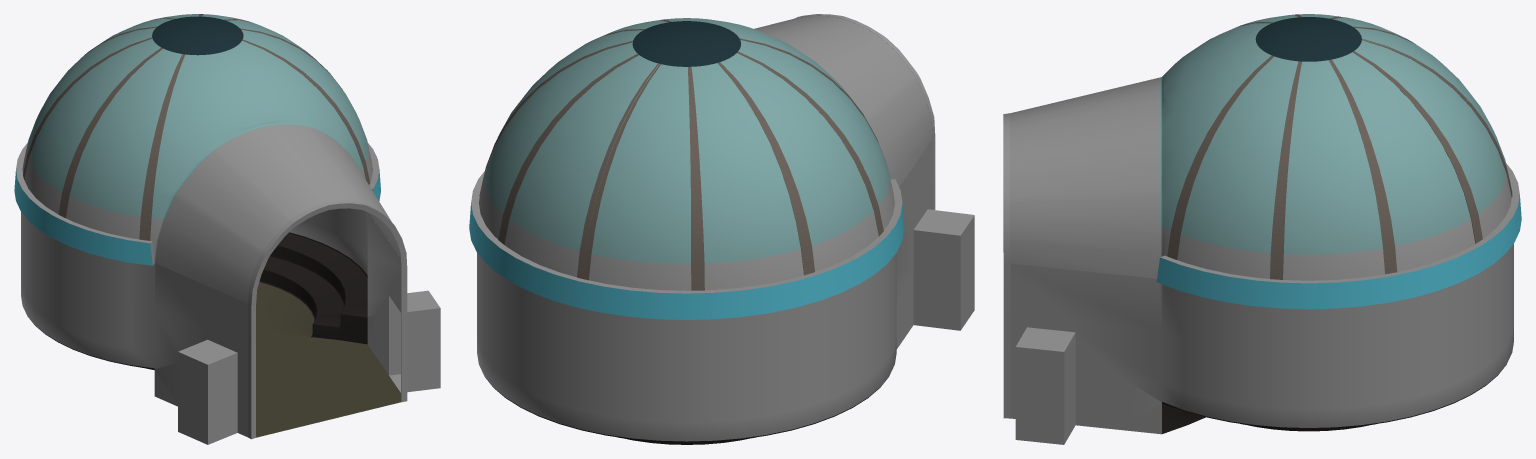
Rendered from VS5_VisionRoom.FBX.
3 views of the same model, side by side, from view 1: azimuth 30°, elevation 25°; view 2: azimuth 150°, elevation 25°; view 3: azimuth 270°, elevation 25° (orthographic). The views are drawn at different scales.
Parts seen in each view (by area): view 1: VisionDome; view 2: VisionDome; view 3: VisionDome.
Part boxes in pixels (x1,y1,x2,y2): VisionDome: (14, 14, 440, 444); VisionDome: (469, 14, 974, 444); VisionDome: (1003, 14, 1521, 444).
Bounding box in the file's own units: 490 × 433 × 597.
